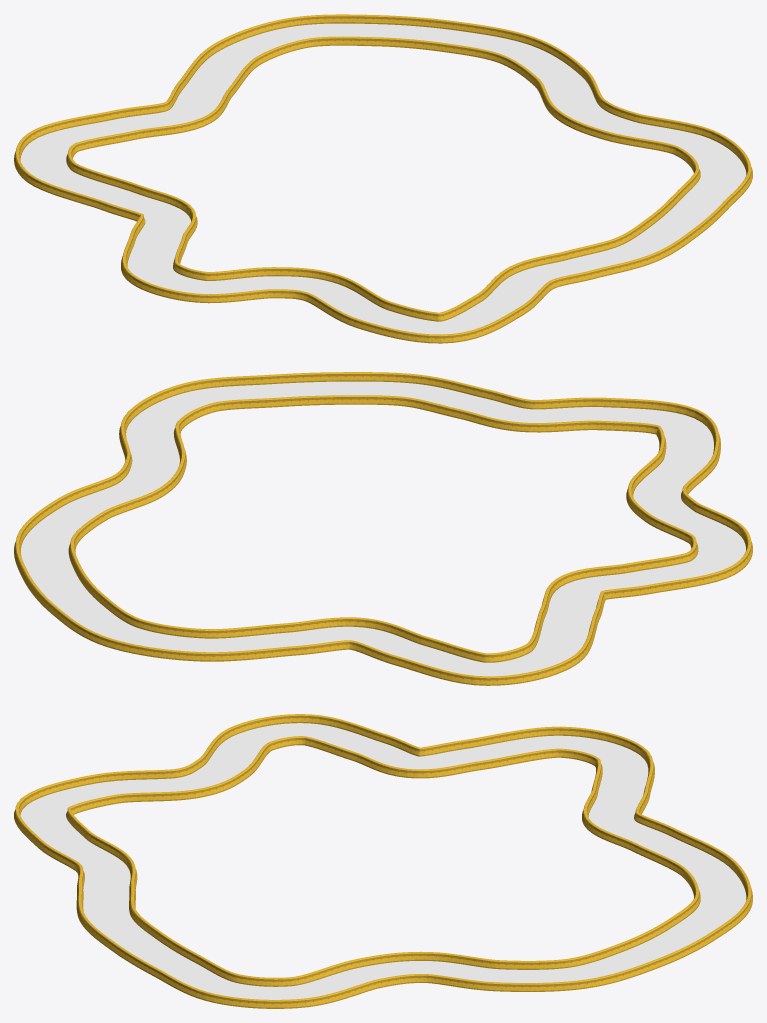
The model's file is Track05.fbx.
3 renders of one model, top to bottom at view 1: azimuth 30°, elevation 25°; view 2: azimuth 150°, elevation 25°; view 3: azimuth 270°, elevation 25°, orthographic. The views are drawn at different scales.
Parts seen in each view (by area): view 1: Track5, Barrier05; view 2: Track5, Barrier05; view 3: Track5, Barrier05.
Part boxes in pixels (bbox=[...]): Track5: bbox=[20, 23, 746, 334]; Barrier05: bbox=[14, 14, 752, 343]; Track5: bbox=[21, 381, 745, 676]; Barrier05: bbox=[14, 372, 752, 685]; Track5: bbox=[20, 723, 746, 999]; Barrier05: bbox=[14, 714, 752, 1008].
Bounding box in the file's own units: 52186 × 56464 × 604.
